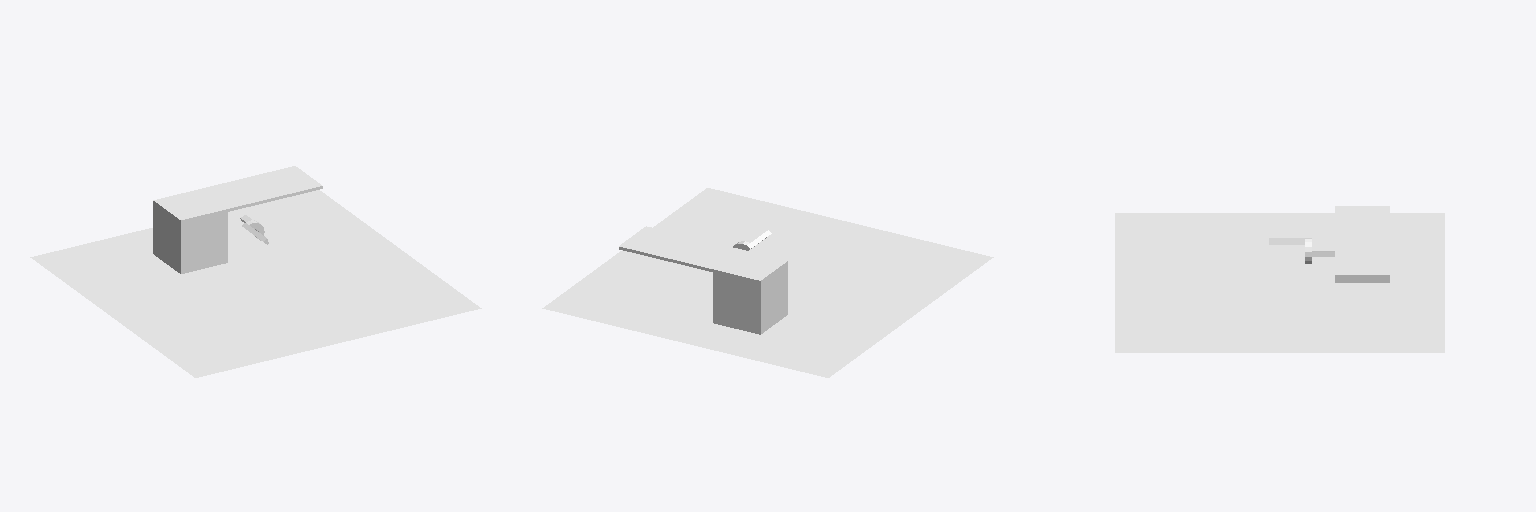
File: probuilder_example.obj
The picture shows the model from 3 angles: view 1: azimuth 30°, elevation 25°; view 2: azimuth 150°, elevation 25°; view 3: azimuth 270°, elevation 25°; orthographic projection.
Parts seen in each view (by area): view 1: probuilder_example; view 2: probuilder_example; view 3: probuilder_example.
Boxes of the visible parts, box(x1,y1,x2,y2) form: probuilder_example: box(30, 166, 481, 377); probuilder_example: box(542, 188, 993, 377); probuilder_example: box(1115, 206, 1444, 352).
Size of the model in its own units: 50 by 9 by 50.